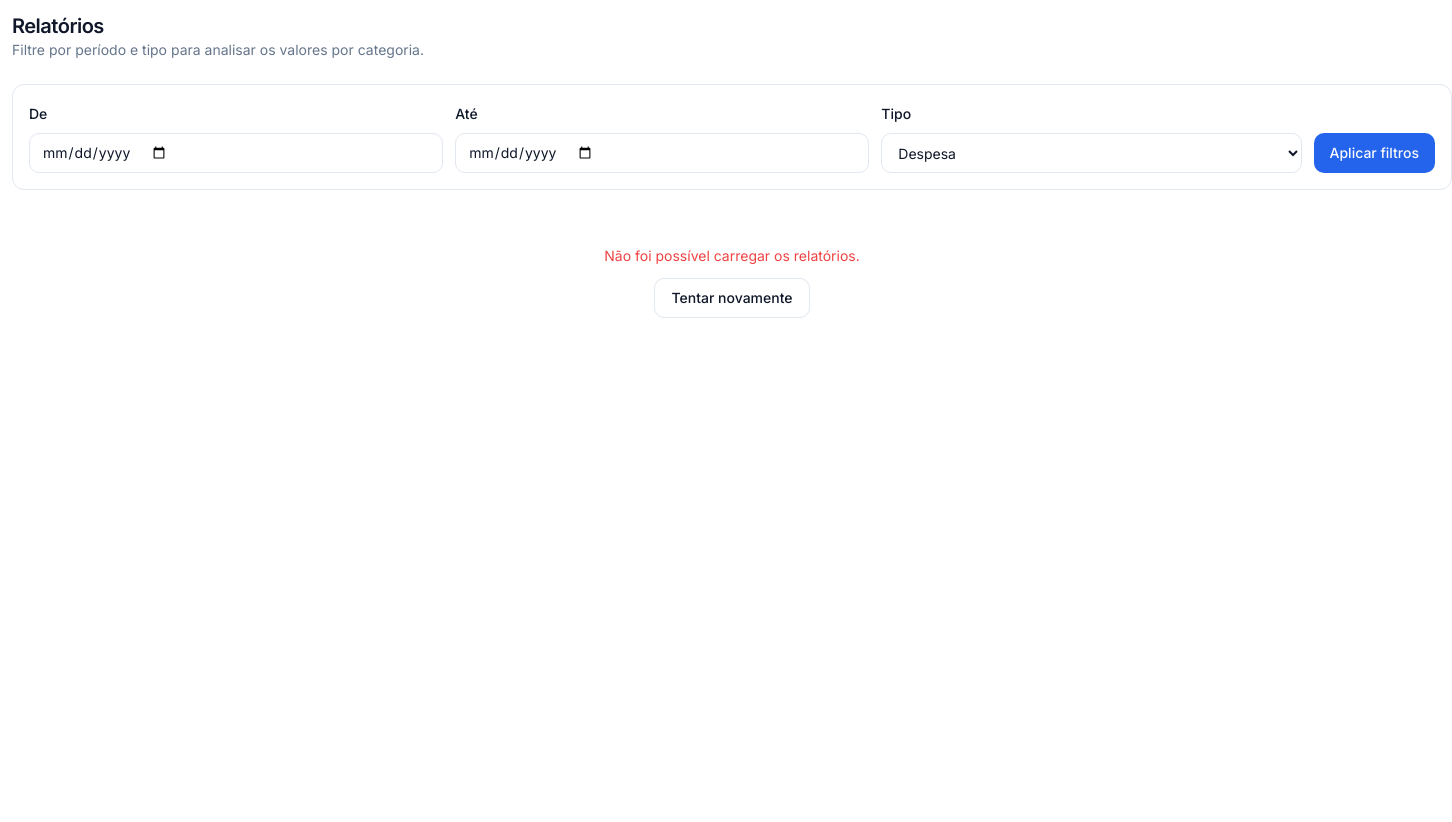
Test: ReportsPage (AC-001, AC-007) › mostra o estado de erro e permite tentar novamente
The width and height of the screenshot is (1452, 822).
Expected: the message reads "Não foi possível carregar os relatórios.", [604, 247, 860, 264]
Click the button "Tentar novamente": (732,298) [654, 278, 810, 318]
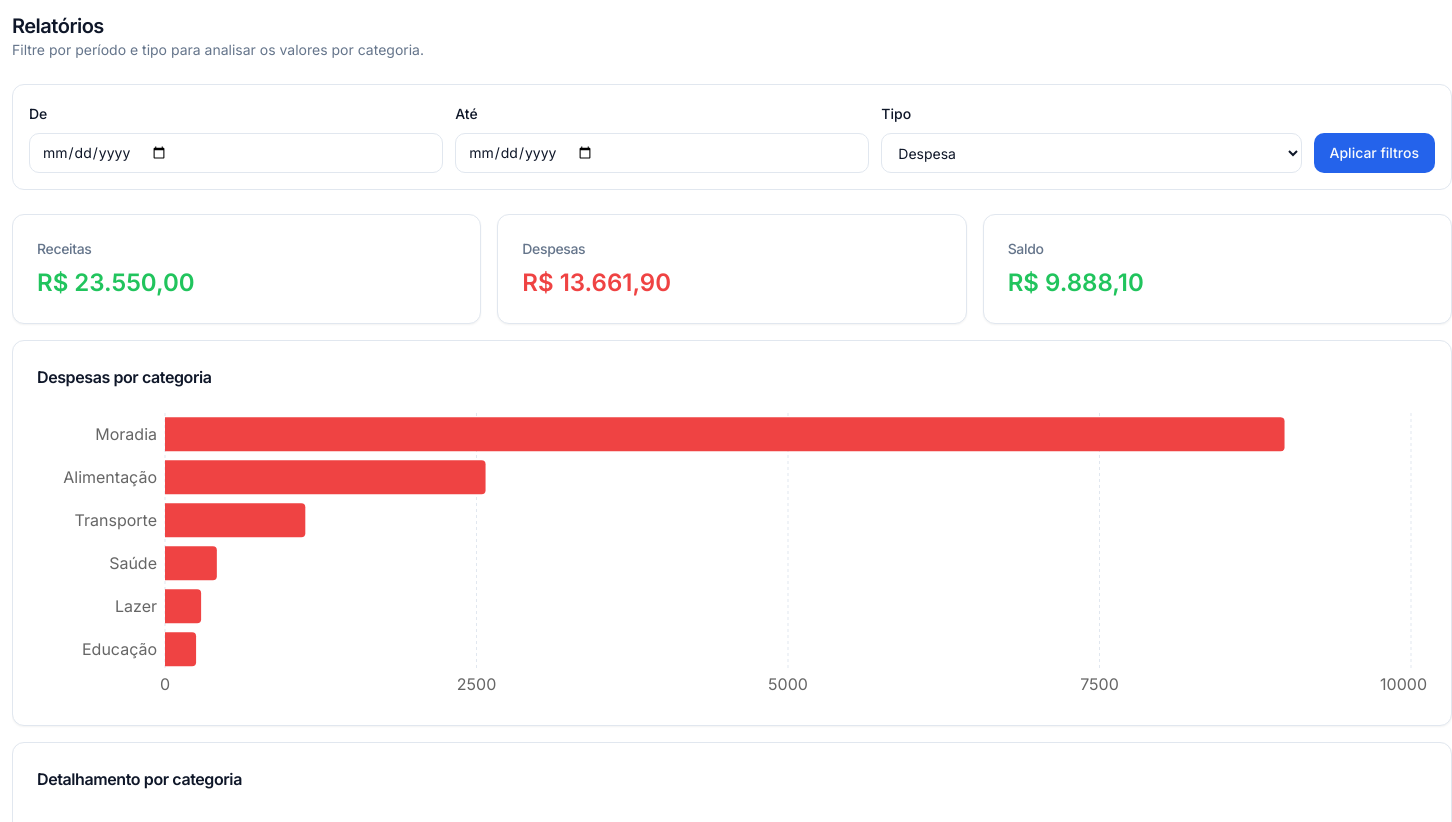
Now the text "Despesas por categoria" is shown, box [37, 367, 212, 387]
